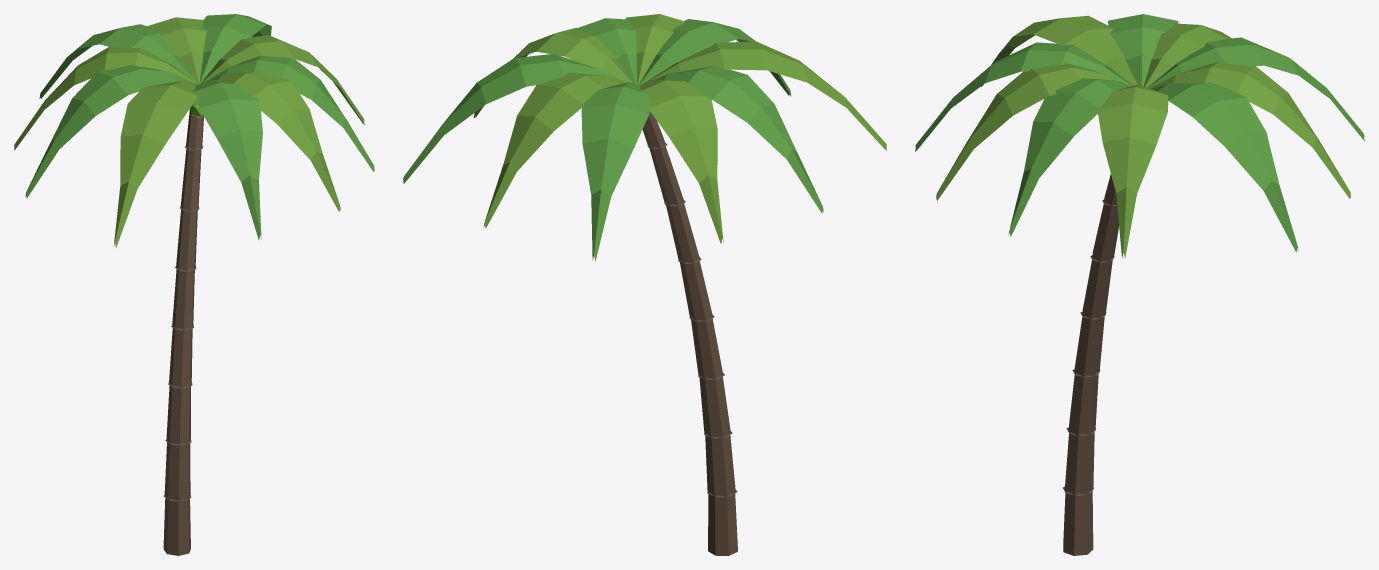
The model's file is ENV_CoconutPalm.fbx.
The picture shows the model from 3 angles, left to right: view 1: azimuth 30°, elevation 25°; view 2: azimuth 150°, elevation 25°; view 3: azimuth 270°, elevation 25°; orthographic projection. The views are drawn at different scales.
Visible parts, largest first — view 1: ENV_CoconutPalm; view 2: ENV_CoconutPalm; view 3: ENV_CoconutPalm.
Part boxes in pixels (bbox=[...]): ENV_CoconutPalm: bbox=[14, 14, 374, 555]; ENV_CoconutPalm: bbox=[403, 14, 886, 555]; ENV_CoconutPalm: bbox=[915, 14, 1364, 555].
Bounding box in the file's own units: 5.57 × 7.5 × 5.88.
